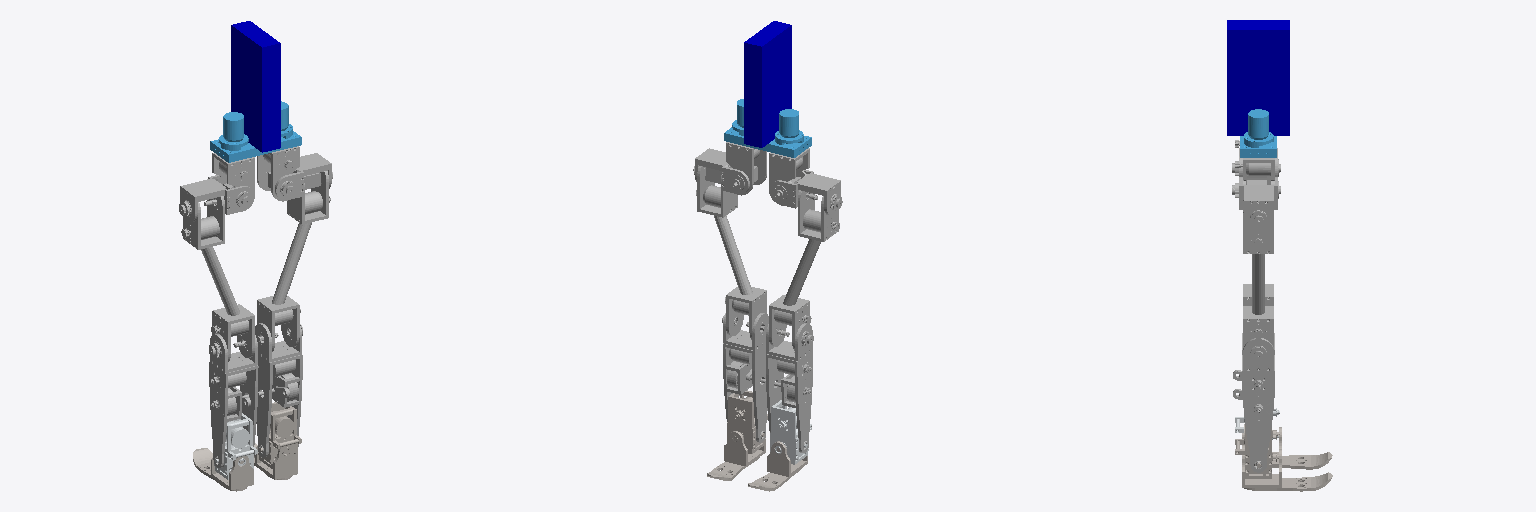
URDF robot description (huron):
<?xml version="1.0" ?>
<!-- =================================================================================== -->
<!-- |    This document was autogenerated by xacro from huron.xacro                    | -->
<!-- |    EDITING THIS FILE BY HAND IS NOT RECOMMENDED                                 | -->
<!-- =================================================================================== -->
<robot name="huron">
  <!--
      Top level description file for HURON. This can be used to generate a URDF.
    -->
  <!--
    Macro to generate a basic HURON robot.
  -->
  <material name="black">
    <color rgba="0.0 0.0 0.0 1.0"/>
  </material>
  <material name="blue">
    <color rgba="0.0 0.0 0.8 1.0"/>
  </material>
  <material name="green">
    <color rgba="0.0 0.8 0.0 1.0"/>
  </material>
  <material name="grey">
    <color rgba="0.75294 0.75294 0.75294 1"/>
  </material>
  <material name="orange">
    <color rgba="1.0 0.4235294117647059 0.0392156862745098 1.0"/>
  </material>
  <material name="brown">
    <color rgba="0.8705882352941177 0.8117647058823529 0.7647058823529411 1.0"/>
  </material>
  <material name="red">
    <color rgba="0.8 0.0 0.0 1.0"/>
  </material>
  <material name="white">
    <color rgba="1.0 1.0 1.0 1.0"/>
  </material>
  <!-- Right leg -->
  <!-- Right foot sensors -->
  <link name="dummy"/>
  <link name="base_link">
    <visual>
      <origin rpy="0 0 0" xyz="0 0 0"/>
      <geometry>
        <mesh filename="package://huron_description/meshes/base_link.STL" scale="1 1 1"/>
      </geometry>
    </visual>
    <collision>
      <origin rpy="0 0 0" xyz="0 0 0"/>
      <geometry>
        <mesh filename="package://huron_description/meshes/base_link.STL" scale="1 1 1"/>
      </geometry>
    </collision>
    <inertial>
      <origin rpy="0 0 0" xyz="-1.3585E-07 5.07E-07 0.026975"/>
      <mass value="3.4072"/>
      <inertia ixx="0.00319" ixy="-1.7776E-09" ixz="-1.7316E-09" iyy="0.010531" iyz="6.4623E-09" izz="0.012315"/>
    </inertial>
  </link>
  <joint name="dummy_joint" type="fixed">
    <parent link="dummy"/>
    <child link="base_link"/>
  </joint>
  <!-- imu joint -->
  <joint name="imu_fixed" type="fixed">
    <origin rpy="0 0 0" xyz="0 0 0"/>
    <parent link="base_link"/>
    <child link="imu_link"/>
  </joint>
  <link name="imu_link"/>
  <!-- right hip yaw joint -->
  <joint name="r_hip_yaw_joint" type="revolute">
    <origin rpy="0 0 3.141592653589793" xyz="0.0775 0 -0.14512"/>
    <parent link="base_link"/>
    <child link="r_hip_yaw_link"/>
    <axis xyz="0 0 1"/>
    <limit effort="1000000" lower="-3.1416" upper="3.1416" velocity="3000"/>
    <dynamics damping="0.5" friction="1"/>
  </joint>
  <transmission name="r_hip_yaw_joint_tran">
    <type>transmission_interface/SimpleTransmission</type>
    <joint name="r_hip_yaw_joint">
      <hardwareInterface>hardware_interface/EffortJointInterface</hardwareInterface>
    </joint>
    <actuator name="r_hip_yaw_joint_motor">
      <hardwareInterface>EffortJointInterface</hardwareInterface>
      <mechanicalReduction>1</mechanicalReduction>
    </actuator>
  </transmission>
  <!-- right hip yaw link -->
  <link name="r_hip_yaw_link">
    <visual>
      <origin rpy="0 0 0" xyz="0 0 0"/>
      <geometry>
        <mesh filename="package://huron_description/meshes/r_hip_yaw_link.STL" scale="1 1 1"/>
      </geometry>
      <material name="grey"/>
    </visual>
    <collision>
      <origin rpy="0 0 0" xyz="0 0 0"/>
      <geometry>
        <mesh filename="package://huron_description/meshes/r_hip_yaw_link.STL" scale="1 1 1"/>
      </geometry>
      <material name="grey"/>
    </collision>
    <inertial>
      <origin rpy="0 0 0" xyz="0.00063365 0.00053469 0.063505"/>
      <mass value="1.6968"/>
      <inertia ixx="0.0022702" ixy="-2.4951E-10" ixz="6.6464E-06" iyy="0.0026746" iyz="5.1468E-09" izz="0.001238"/>
    </inertial>
  </link>
  <!-- right hip roll joint-->
  <joint name="r_hip_roll_joint" type="revolute">
    <origin rpy="1.5707963267948966 0 0" xyz="0 0 0"/>
    <parent link="r_hip_yaw_link"/>
    <child link="r_hip_roll_link"/>
    <axis xyz="0 0 1"/>
    <limit effort="1000000" lower="-0.5236" upper="0.01" velocity="3000"/>
    <dynamics damping="0.5" friction="1"/>
  </joint>
  <transmission name="r_hip_roll_joint_tran">
    <type>transmission_interface/SimpleTransmission</type>
    <joint name="r_hip_roll_joint">
      <hardwareInterface>hardware_interface/EffortJointInterface</hardwareInterface>
    </joint>
    <actuator name="r_hip_roll_joint_motor">
      <hardwareInterface>EffortJointInterface</hardwareInterface>
      <mechanicalReduction>1</mechanicalReduction>
    </actuator>
  </transmission>
  <!-- right hip roll link -->
  <link name="r_hip_roll_link">
    <visual>
      <origin rpy="0 0 0" xyz="0 0 0"/>
      <geometry>
        <mesh filename="package://huron_description/meshes/r_hip_roll_link.STL" scale="1 1 1"/>
      </geometry>
      <material name="grey"/>
    </visual>
    <collision>
      <origin rpy="0 0 0" xyz="0 0 0"/>
      <geometry>
        <mesh filename="package://huron_description/meshes/r_hip_roll_link.STL" scale="1 1 1"/>
      </geometry>
      <material name="grey"/>
    </collision>
    <inertial>
      <origin rpy="0 0 0" xyz="-0.07196 0.0061153 -0.0005211"/>
      <mass value="1.1884"/>
      <inertia ixx="0.00098222" ixy="9.9267E-08" ixz="4.9764E-09" iyy="0.00097045" iyz="9.7285E-08" izz="0.00092365"/>
    </inertial>
  </link>
  <!-- right hip pitch joint -->
  <joint name="r_hip_pitch_joint" type="revolute">
    <origin rpy="-1.5707963267948966 0 -1.5707963267948966" xyz="-1.6665E-05 -0.0165 -5E-05"/>
    <parent link="r_hip_roll_link"/>
    <child link="r_hip_pitch_link"/>
    <axis xyz="0 0 1"/>
    <limit effort="1000000" lower="-1.2217" upper="1.2217" velocity="3000"/>
    <dynamics damping="0.5" friction="1"/>
  </joint>
  <transmission name="r_hip_pitch_joint_tran">
    <type>transmission_interface/SimpleTransmission</type>
    <joint name="r_hip_pitch_joint">
      <hardwareInterface>hardware_interface/EffortJointInterface</hardwareInterface>
    </joint>
    <actuator name="r_hip_pitch_joint_motor">
      <hardwareInterface>EffortJointInterface</hardwareInterface>
      <mechanicalReduction>1</mechanicalReduction>
    </actuator>
  </transmission>
  <!-- right hip pitch link -->
  <link name="r_hip_pitch_link">
    <visual>
      <origin rpy="0 0 0" xyz="0 0 0"/>
      <geometry>
        <mesh filename="package://huron_description/meshes/r_hip_pitch_link.STL" scale="1 1 1"/>
      </geometry>
      <material name="grey"/>
    </visual>
    <collision>
      <origin rpy="0 0 0" xyz="0 0 0"/>
      <geometry>
        <mesh filename="package://huron_description/meshes/r_hip_pitch_link.STL" scale="1 1 1"/>
      </geometry>
      <material name="grey"/>
    </collision>
    <inertial>
      <origin rpy="0 0 0" xyz="0.25103 -7.7295E-06 -0.053135"/>
      <mass value="4.2544"/>
      <inertia ixx="0.0034501" ixy="1.1102E-07" ixz="-0.0019797" iyy="0.010035" iyz="-4.8767E-10" izz="0.01009"/>
    </inertial>
  </link>
  <!-- right knee pitch joint -->
  <joint name="r_knee_pitch_joint" type="revolute">
    <origin rpy="0 0 0" xyz="0.49628 0 0"/>
    <parent link="r_hip_pitch_link"/>
    <child link="r_knee_pitch_link"/>
    <axis xyz="0 0 1"/>
    <limit effort="1000000" lower="-1.5707963267948966" upper="1.5707963267948966" velocity="3000"/>
    <dynamics damping="0.5" friction="1"/>
  </joint>
  <transmission name="r_knee_pitch_joint_tran">
    <type>transmission_interface/SimpleTransmission</type>
    <joint name="r_knee_pitch_joint">
      <hardwareInterface>hardware_interface/EffortJointInterface</hardwareInterface>
    </joint>
    <actuator name="r_knee_pitch_joint_motor">
      <hardwareInterface>EffortJointInterface</hardwareInterface>
      <mechanicalReduction>1</mechanicalReduction>
    </actuator>
  </transmission>
  <!-- right knee pitch link -->
  <link name="r_knee_pitch_link">
    <visual>
      <origin rpy="0 0 0" xyz="0 0 0"/>
      <geometry>
        <mesh filename="package://huron_description/meshes/r_knee_pitch_link.STL" scale="1 1 1"/>
      </geometry>
      <material name="grey"/>
    </visual>
    <collision>
      <origin rpy="0 0 0" xyz="0 0 0"/>
      <geometry>
        <mesh filename="package://huron_description/meshes/r_knee_pitch_link.STL" scale="1 1 1"/>
      </geometry>
      <material name="grey"/>
    </collision>
    <inertial>
      <origin rpy="0 0 0" xyz="0.13397 0.00066001 -0.0028723"/>
      <mass value="3.4875"/>
      <inertia ixx="0.0064814" ixy="1.2524E-05" ixz="2.7966E-05" iyy="0.019762" iyz="-1.0417E-05" izz="0.017354"/>
    </inertial>
  </link>
  <!-- right ankle pitch joint -->
  <joint name="r_ankle_pitch_joint" type="revolute">
    <origin rpy="0 0 0.0" xyz="0.37 0 0"/>
    <parent link="r_knee_pitch_link"/>
    <child link="r_ankle_pitch_link"/>
    <axis xyz="0 0 1"/>
    <limit effort="1000000" lower="-0.5236" upper="0.1745" velocity="3000"/>
    <dynamics damping="0.5" friction="1"/>
  </joint>
  <transmission name="r_ankle_pitch_joint_tran">
    <type>transmission_interface/SimpleTransmission</type>
    <joint name="r_ankle_pitch_joint">
      <hardwareInterface>hardware_interface/EffortJointInterface</hardwareInterface>
    </joint>
    <actuator name="r_ankle_pitch_joint_motor">
      <hardwareInterface>EffortJointInterface</hardwareInterface>
      <mechanicalReduction>1</mechanicalReduction>
    </actuator>
  </transmission>
  <!-- right ankle pitch link -->
  <link name="r_ankle_pitch_link">
    <visual>
      <origin rpy="0 0 0" xyz="0 0 0"/>
      <geometry>
        <mesh filename="package://huron_description/meshes/r_ankle_pitch_link.STL" scale="1 1 1"/>
      </geometry>
      <material name="">
        <color rgba="0.77647 0.75686 0.73725 1"/>
      </material>
    </visual>
    <collision>
      <origin rpy="0 0 0" xyz="0 0 0"/>
      <geometry>
        <mesh filename="package://huron_description/meshes/r_ankle_pitch_link.STL" scale="1 1 1"/>
      </geometry>
      <material name="">
        <color rgba="0.77647 0.75686 0.73725 1"/>
      </material>
    </collision>
    <inertial>
      <origin rpy="0 0 0" xyz="-0.029808 0.001045 3.1134E-08"/>
      <mass value="2.4242"/>
      <inertia ixx="0.0025143" ixy="-0.00025651" ixz="1.1633E-12" iyy="0.0045125" iyz="6.7197E-10" izz="0.0049235"/>
    </inertial>
  </link>
  <!-- right ankle roll joint -->
  <joint name="r_ankle_roll_joint" type="revolute">
    <origin rpy="1.5707963267948966 0 0" xyz="0 0 0"/>
    <parent link="r_ankle_pitch_link"/>
    <child link="r_ankle_roll_link"/>
    <axis xyz="0 0 1"/>
    <limit effort="1000000" lower="-0.3491" upper="0.3491" velocity="3000"/>
    <dynamics damping="0.5" friction="10"/>
  </joint>
  <transmission name="r_ankle_roll_joint_tran">
    <type>transmission_interface/SimpleTransmission</type>
    <joint name="r_ankle_roll_joint">
      <hardwareInterface>hardware_interface/EffortJointInterface</hardwareInterface>
    </joint>
    <actuator name="r_ankle_roll_joint_motor">
      <hardwareInterface>EffortJointInterface</hardwareInterface>
      <mechanicalReduction>1</mechanicalReduction>
    </actuator>
  </transmission>
  <!-- right ankle roll link -->
  <link name="r_ankle_roll_link">
    <visual>
      <origin rpy="0 0 0" xyz="0 0 0"/>
      <geometry>
        <mesh filename="package://huron_description/meshes/r_ankle_roll_link.STL" scale="1 1 1"/>
      </geometry>
      <material name="">
        <color rgba="0.77647 0.75686 0.73725 1"/>
      </material>
    </visual>
    <collision>
      <origin rpy="0 0 0" xyz="0 0 0"/>
      <geometry>
        <mesh filename="package://huron_description/meshes/r_ankle_roll_link.STL" scale="1 1 1"/>
      </geometry>
      <material name="">
        <color rgba="0.77647 0.75686 0.73725 1"/>
      </material>
    </collision>
    <inertial>
      <origin rpy="0 0 0" xyz="0.07353 -6.708E-05 0.063947"/>
      <mass value="1.8633"/>
      <inertia ixx="0.0086824" ixy="9.8353E-06" ixz="0.00024334" iyy="0.0084059" iyz="-0.00012379" izz="0.0013021"/>
    </inertial>
  </link>
  <!-- left hip yaw joint -->
  <joint name="l_hip_yaw_joint" type="revolute">
    <origin rpy="0 0 0" xyz="-0.0775 0 -0.14512"/>
    <parent link="base_link"/>
    <child link="l_hip_yaw_link"/>
    <axis xyz="0 0 1"/>
    <limit effort="1000000" lower="-3.1416" upper="3.1416" velocity="3000"/>
    <dynamics damping="0.5" friction="1"/>
  </joint>
  <transmission name="l_hip_yaw_joint_tran">
    <type>transmission_interface/SimpleTransmission</type>
    <joint name="l_hip_yaw_joint">
      <hardwareInterface>hardware_interface/EffortJointInterface</hardwareInterface>
    </joint>
    <actuator name="l_hip_yaw_joint_motor">
      <hardwareInterface>EffortJointInterface</hardwareInterface>
      <mechanicalReduction>1</mechanicalReduction>
    </actuator>
  </transmission>
  <!-- left hip yaw link -->
  <link name="l_hip_yaw_link">
    <visual>
      <origin rpy="0 0 0" xyz="0 0 0"/>
      <geometry>
        <mesh filename="package://huron_description/meshes/l_hip_yaw_link.STL" scale="1 1 1"/>
      </geometry>
      <material name="grey"/>
    </visual>
    <collision>
      <origin rpy="0 0 0" xyz="0 0 0"/>
      <geometry>
        <mesh filename="package://huron_description/meshes/l_hip_yaw_link.STL" scale="1 1 1"/>
      </geometry>
      <material name="grey"/>
    </collision>
    <inertial>
      <origin rpy="0 0 0" xyz="0.00063365 -0.00053469 0.063505"/>
      <mass value="1.6968"/>
      <inertia ixx="0.0022702" ixy="-2.4951E-10" ixz="6.6464E-06" iyy="0.0026746" iyz="-5.1468E-09" izz="0.001238"/>
    </inertial>
  </link>
  <!-- left hip roll joint-->
  <joint name="l_hip_roll_joint" type="revolute">
    <origin rpy="1.5707963267948966 0 3.141592653589793" xyz="0 0 0"/>
    <parent link="l_hip_yaw_link"/>
    <child link="l_hip_roll_link"/>
    <axis xyz="0 0 1"/>
    <limit effort="1000000" lower="-0.01" upper="0.5236" velocity="3000"/>
    <dynamics damping="0.5" friction="1"/>
  </joint>
  <transmission name="l_hip_roll_joint_tran">
    <type>transmission_interface/SimpleTransmission</type>
    <joint name="l_hip_roll_joint">
      <hardwareInterface>hardware_interface/EffortJointInterface</hardwareInterface>
    </joint>
    <actuator name="l_hip_roll_joint_motor">
      <hardwareInterface>EffortJointInterface</hardwareInterface>
      <mechanicalReduction>1</mechanicalReduction>
    </actuator>
  </transmission>
  <!-- left hip roll link -->
  <link name="l_hip_roll_link">
    <visual>
      <origin rpy="0 0 0" xyz="0 0 0"/>
      <geometry>
        <mesh filename="package://huron_description/meshes/l_hip_roll_link.STL" scale="1 1 1"/>
      </geometry>
      <material name="grey"/>
    </visual>
    <collision>
      <origin rpy="0 0 0" xyz="0 0 0"/>
      <geometry>
        <mesh filename="package://huron_description/meshes/l_hip_roll_link.STL" scale="1 1 1"/>
      </geometry>
      <material name="grey"/>
    </collision>
    <inertial>
      <origin rpy="0 0 0" xyz="0.07196 0.0061153 -0.0005211"/>
      <mass value="1.1884"/>
      <inertia ixx="0.00098222" ixy="-9.9267E-08" ixz="4.9764E-09" iyy="0.00097045" iyz="-9.7285E-08" izz="0.00092365"/>
    </inertial>
  </link>
  <!-- left hip pitch joint -->
  <joint name="l_hip_pitch_joint" type="revolute">
    <origin rpy="-1.5707963267948966 0 -1.5707963267948966" xyz="1.6665E-05 -0.0165 -5E-05"/>
    <parent link="l_hip_roll_link"/>
    <child link="l_hip_pitch_link"/>
    <axis xyz="0 0 1"/>
    <limit effort="1000000" lower="-1.2217" upper="1.2217" velocity="3000"/>
    <dynamics damping="0.5" friction="1"/>
  </joint>
  <transmission name="l_hip_pitch_joint_tran">
    <type>transmission_interface/SimpleTransmission</type>
    <joint name="l_hip_pitch_joint">
      <hardwareInterface>hardware_interface/EffortJointInterface</hardwareInterface>
    </joint>
    <actuator name="l_hip_pitch_joint_motor">
      <hardwareInterface>EffortJointInterface</hardwareInterface>
      <mechanicalReduction>1</mechanicalReduction>
    </actuator>
  </transmission>
  <!-- left hip pitch link -->
  <link name="l_hip_pitch_link">
    <visual>
      <origin rpy="0 0 0" xyz="0 0 0"/>
      <geometry>
        <mesh filename="package://huron_description/meshes/l_hip_pitch_link.STL" scale="1 1 1"/>
      </geometry>
      <material name="grey"/>
    </visual>
    <collision>
      <origin rpy="0 0 0" xyz="0 0 0"/>
      <geometry>
        <mesh filename="package://huron_description/meshes/l_hip_pitch_link.STL" scale="1 1 1"/>
      </geometry>
      <material name="grey"/>
    </collision>
    <inertial>
      <origin rpy="0 0 0" xyz="0.25103 -7.7295E-06 0.053135"/>
      <mass value="4.2544"/>
      <inertia ixx="0.0034501" ixy="-1.1102E-07" ixz="0.0019797" iyy="0.010035" iyz="-4.8767E-10" izz="0.01009"/>
    </inertial>
  </link>
  <!-- left knee pitch joint -->
  <joint name="l_knee_pitch_joint" type="revolute">
    <origin rpy="0 0 0" xyz="0.49628 0 0"/>
    <parent link="l_hip_pitch_link"/>
    <child link="l_knee_pitch_link"/>
    <axis xyz="0 0 1"/>
    <limit effort="1000000" lower="-1.5707963267948966" upper="1.5707963267948966" velocity="3000"/>
    <dynamics damping="0.5" friction="1"/>
  </joint>
  <transmission name="l_knee_pitch_joint_tran">
    <type>transmission_interface/SimpleTransmission</type>
    <joint name="l_knee_pitch_joint">
      <hardwareInterface>hardware_interface/EffortJointInterface</hardwareInterface>
    </joint>
    <actuator name="l_knee_pitch_joint_motor">
      <hardwareInterface>EffortJointInterface</hardwareInterface>
      <mechanicalReduction>1</mechanicalReduction>
    </actuator>
  </transmission>
  <!-- left knee pitch link -->
  <link name="l_knee_pitch_link">
    <visual>
      <origin rpy="0 0 0" xyz="0 0 0"/>
      <geometry>
        <mesh filename="package://huron_description/meshes/l_knee_pitch_link.STL" scale="1 1 1"/>
      </geometry>
      <material name="grey"/>
    </visual>
    <collision>
      <origin rpy="0 0 0" xyz="0 0 0"/>
      <geometry>
        <mesh filename="package://huron_description/meshes/l_knee_pitch_link.STL" scale="1 1 1"/>
      </geometry>
      <material name="grey"/>
    </collision>
    <inertial>
      <origin rpy="0 0 0" xyz="0.13397 0.00066001 0.0028723"/>
      <mass value="3.4875"/>
      <inertia ixx="0.0064814" ixy="1.2524E-05" ixz="-2.7966E-05" iyy="0.019762" iyz="1.0417E-05" izz="0.017354"/>
    </inertial>
  </link>
  <!-- left ankle pitch joint -->
  <joint name="l_ankle_pitch_joint" type="revolute">
    <origin rpy="0 0 0.0" xyz="0.37 0 0"/>
    <parent link="l_knee_pitch_link"/>
    <child link="l_ankle_pitch_link"/>
    <axis xyz="0 0 1"/>
    <limit effort="1000000" lower="-0.5236" upper="0.1745" velocity="3000"/>
    <dynamics damping="0.5" friction="1"/>
  </joint>
  <transmission name="l_ankle_pitch_joint_tran">
    <type>transmission_interface/SimpleTransmission</type>
    <joint name="l_ankle_pitch_joint">
      <hardwareInterface>hardware_interface/EffortJointInterface</hardwareInterface>
    </joint>
    <actuator name="l_ankle_pitch_joint_motor">
      <hardwareInterface>EffortJointInterface</hardwareInterface>
      <mechanicalReduction>1</mechanicalReduction>
    </actuator>
  </transmission>
  <!-- left ankle pitch link -->
  <link name="l_ankle_pitch_link">
    <visual>
      <origin rpy="0 0 0" xyz="0 0 0"/>
      <geometry>
        <mesh filename="package://huron_description/meshes/l_ankle_pitch_link.STL" scale="1 1 1"/>
      </geometry>
      <material name="">
        <color rgba="0.89804 0.91765 0.92941 1"/>
      </material>
    </visual>
    <collision>
      <origin rpy="0 0 0" xyz="0 0 0"/>
      <geometry>
        <mesh filename="package://huron_description/meshes/l_ankle_pitch_link.STL" scale="1 1 1"/>
      </geometry>
      <material name="">
        <color rgba="0.89804 0.91765 0.92941 1"/>
      </material>
    </collision>
    <inertial>
      <origin rpy="0 0 0" xyz="-0.029808 0.001045 3.1134E-08"/>
      <mass value="2.4242"/>
      <inertia ixx="0.0025143" ixy="-0.00025651" ixz="1.1633E-12" iyy="0.0045125" iyz="6.7197E-10" izz="0.0049235"/>
    </inertial>
  </link>
  <!-- left ankle roll pitch -->
  <joint name="l_ankle_roll_joint" type="revolute">
    <origin rpy="1.5707963267948966 0 0" xyz="0 0 0"/>
    <parent link="l_ankle_pitch_link"/>
    <child link="l_ankle_roll_link"/>
    <axis xyz="0 0 1"/>
    <limit effort="1000000" lower="-0.3491" upper="0.3491" velocity="3000"/>
    <dynamics damping="0.5" friction="10"/>
  </joint>
  <transmission name="l_ankle_roll_joint_tran">
    <type>transmission_interface/SimpleTransmission</type>
    <joint name="l_ankle_roll_joint">
      <hardwareInterface>hardware_interface/EffortJointInterface</hardwareInterface>
    </joint>
    <actuator name="l_ankle_roll_joint_motor">
      <hardwareInterface>EffortJointInterface</hardwareInterface>
      <mechanicalReduction>1</mechanicalReduction>
    </actuator>
  </transmission>
  <!-- left ankle roll link -->
  <link name="l_ankle_roll_link">
    <visual>
      <origin rpy="0 0 0" xyz="0 0 0"/>
      <geometry>
        <mesh filename="package://huron_description/meshes/l_ankle_roll_link.STL" scale="1 1 1"/>
      </geometry>
      <material name="">
        <color rgba="0.77647 0.75686 0.73725 1"/>
      </material>
    </visual>
    <collision>
      <origin rpy="0 0 0" xyz="0 0 0"/>
      <geometry>
        <mesh filename="package://huron_description/meshes/l_ankle_roll_link.STL" scale="1 1 1"/>
      </geometry>
      <material name="">
        <color rgba="0.77647 0.75686 0.73725 1"/>
      </material>
    </collision>
    <inertial>
      <origin rpy="0 0 0" xyz="0.07353 6.708E-05 0.063947"/>
      <mass value="1.8633"/>
      <inertia ixx="0.0086824" ixy="-9.8353E-06" ixz="0.00024334" iyy="0.0084059" iyz="0.00012379" izz="0.0013021"/>
    </inertial>
  </link>
  <!-- Battery -->
  <link name="battery_link">
    <visual>
      <origin rpy="0 0 0" xyz="0 0 0"/>
      <geometry>
        <box size="0.065 0.188 0.151"/>
      </geometry>
      <material name="blue"/>
    </visual>
    <collision>
      <origin rpy="0 0 0" xyz="0 0 0"/>
      <geometry>
        <box size="0.065 0.188 0.151"/>
      </geometry>
      <material name="blue"/>
    </collision>
    <inertial>
      <origin rpy="0 0 0" xyz="0 0 0"/>
      <mass value="3.90089"/>
      <inertia ixx="0.01890143742" ixy="0" ixz="0" iyy="0.0128628597" iyz="0" izz="0.008785454428"/>
    </inertial>
  </link>
  <joint name="battery_fixed" type="fixed">
    <origin rpy="0 0 0" xyz="0 0 0.0895"/>
    <parent link="base_link"/>
    <child link="battery_link"/>
  </joint>
  <!-- Upper body visualization -->
  <link name="upper_body_link">
    <visual>
      <origin rpy="0 0 0" xyz="0 0 0"/>
      <geometry>
        <box size="0.065 0.188 0.25"/>
      </geometry>
      <material name="blue"/>
    </visual>
    <collision>
      <origin rpy="0 0 0" xyz="0 0 0"/>
      <geometry>
        <box size="0.065 0.188 0.25"/>
      </geometry>
      <material name="blue"/>
    </collision>
    <inertial>
      <origin rpy="0 0 0" xyz="0 0 0"/>
      <mass value="0.00001"/>
      <inertia ixx="0.000001" ixy="0" ixz="0" iyy="0.000001" iyz="0" izz="0.000001"/>
    </inertial>
  </link>
  <joint name="upper_body_fixed" type="fixed">
    <origin rpy="0 0 0" xyz="0 0 0.1505"/>
    <parent link="battery_link"/>
    <child link="upper_body_link"/>
  </joint>
</robot>

--- Render facts (derived) ---
3 views of the same robot in one strip: view 1: azimuth 30°, elevation 25°; view 2: azimuth 150°, elevation 25°; view 3: azimuth 270°, elevation 25° (orthographic).
Model huron with 17 links and 16 joints (12 revolute, 4 fixed), rooted at dummy, posed every joint at zero.
Links seen in each view (by area): view 1: r_hip_pitch_link, l_hip_pitch_link, l_knee_pitch_link, upper_body_link, r_knee_pitch_link, base_link, l_hip_roll_link, battery_link, r_ankle_pitch_link, l_ankle_pitch_link, r_hip_yaw_link, l_ankle_roll_link (+3 smaller); view 2: r_hip_pitch_link, l_hip_pitch_link, upper_body_link, l_knee_pitch_link, r_knee_pitch_link, base_link, l_hip_roll_link, r_ankle_pitch_link, l_ankle_pitch_link, battery_link, r_ankle_roll_link, l_ankle_roll_link (+3 smaller); view 3: upper_body_link, r_knee_pitch_link, r_hip_pitch_link, battery_link, r_hip_roll_link, base_link, r_ankle_roll_link, l_ankle_roll_link, r_ankle_pitch_link, r_hip_yaw_link.
Link boxes in pixels (<box>): r_hip_pitch_link: <box>257,171,330,351</box>; l_hip_pitch_link: <box>181,196,254,361</box>; l_knee_pitch_link: <box>209,334,258,467</box>; upper_body_link: <box>231,21,280,121</box>; r_knee_pitch_link: <box>255,323,302,457</box>; base_link: <box>210,101,301,162</box>; l_hip_roll_link: <box>179,175,254,222</box>; battery_link: <box>231,86,280,152</box>; r_ankle_pitch_link: <box>258,402,301,468</box>; l_ankle_pitch_link: <box>214,413,257,479</box>; r_hip_yaw_link: <box>257,146,299,201</box>; l_ankle_roll_link: <box>193,448,253,491</box>; r_hip_pitch_link: <box>696,166,766,339</box>; l_hip_pitch_link: <box>769,190,839,350</box>; upper_body_link: <box>744,21,791,118</box>; l_knee_pitch_link: <box>766,323,812,452</box>; r_knee_pitch_link: <box>723,313,768,442</box>; base_link: <box>724,99,811,157</box>; l_hip_roll_link: <box>769,170,842,215</box>; r_ankle_pitch_link: <box>727,390,767,453</box>; l_ankle_pitch_link: <box>770,400,811,464</box>; battery_link: <box>744,91,791,147</box>; r_ankle_roll_link: <box>707,431,765,480</box>; l_ankle_roll_link: <box>748,441,807,491</box>; upper_body_link: <box>1227,20,1289,104</box>; r_knee_pitch_link: <box>1233,338,1274,472</box>; r_hip_pitch_link: <box>1243,200,1273,362</box>; battery_link: <box>1227,90,1289,135</box>; r_hip_roll_link: <box>1232,177,1280,231</box>; base_link: <box>1240,109,1276,157</box>; r_ankle_roll_link: <box>1242,449,1332,491</box>; l_ankle_roll_link: <box>1242,427,1332,469</box>; r_ankle_pitch_link: <box>1235,424,1279,478</box>; r_hip_yaw_link: <box>1235,158,1274,184</box>.
Bounding box of the posed robot: 0.5224 × 0.3159 × 1.49 m (x, y, z).
Meshes: 13 distinct files referenced, 13 mesh visuals loaded (13 binary STL).
